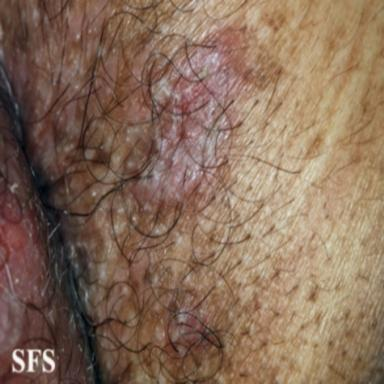Hailey-Hailey-Disease: (0, 0, 112, 357), (131, 46, 233, 211), (168, 311, 205, 352)
